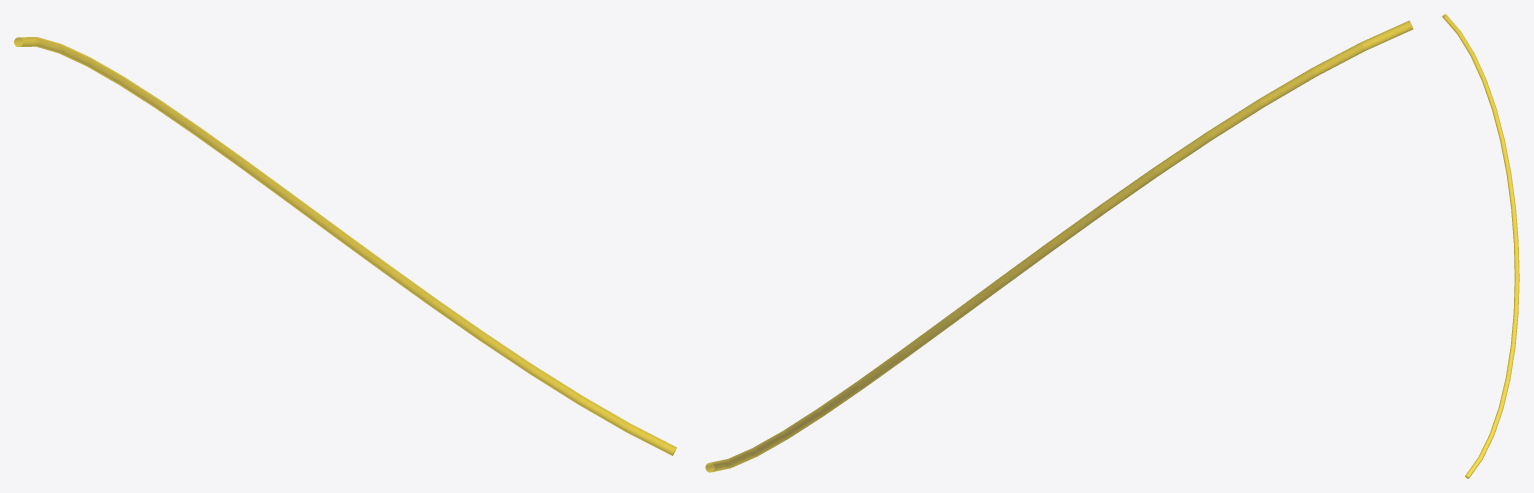
The model's file is Event_100608114_track_29.fbx.
The picture shows the model from 3 angles, left to right: view 1: azimuth 30°, elevation 25°; view 2: azimuth 150°, elevation 25°; view 3: azimuth 270°, elevation 25°; orthographic projection. The views are drawn at different scales.
Visible parts, largest first — view 1: Model; view 2: Model; view 3: Model.
Boxes of the visible parts, x1,y1,x2,y2 form: Model: (14,37,676,455); Model: (705,20,1413,472); Model: (1442,14,1519,478).
Bounding box in the file's own units: 3.22 × 2.69 × 0.6288.
